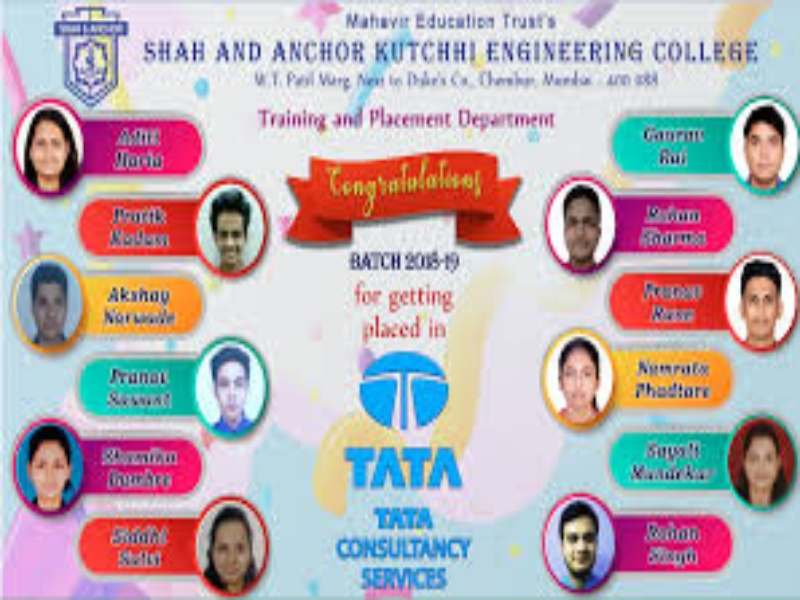tcs: (351, 345, 460, 437)
